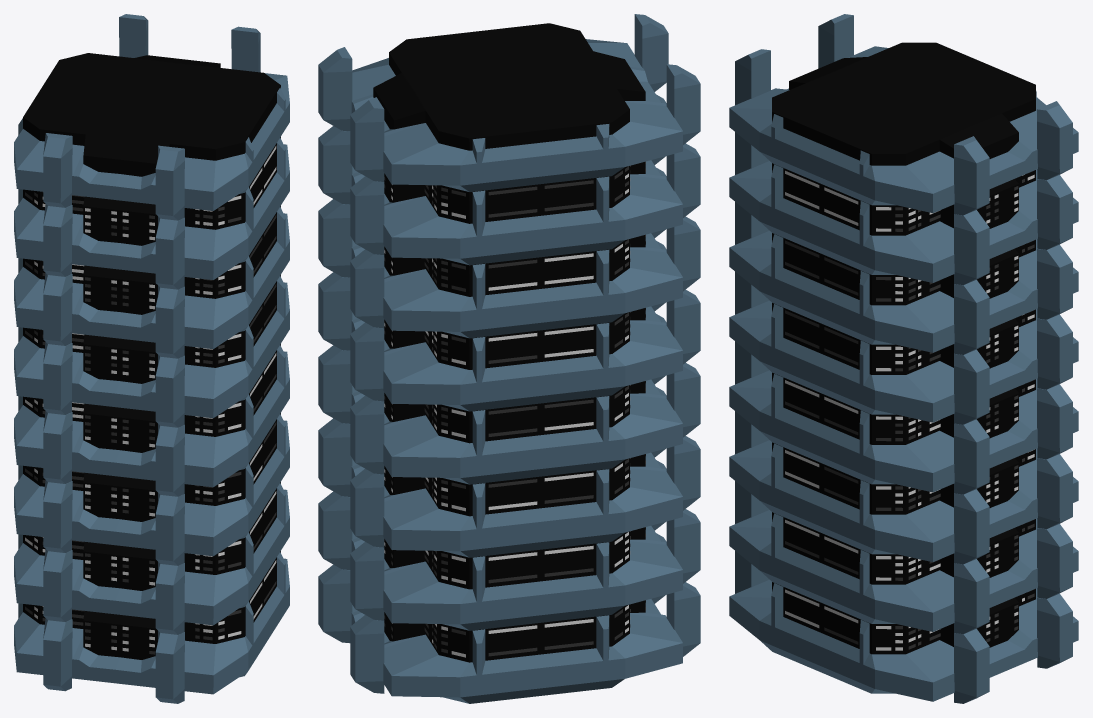
Rendered from building_022.glb.
The picture shows the model from 3 angles, left to right: view 1: azimuth 30°, elevation 25°; view 2: azimuth 150°, elevation 25°; view 3: azimuth 270°, elevation 25°; orthographic projection. The views are drawn at different scales.
Parts seen in each view (by area): view 1: building.022; view 2: building.022; view 3: building.022.
Part boxes in pixels (x1=…): building.022: x1=14, y1=14, x2=289, y2=703; building.022: x1=318, y1=14, x2=700, y2=703; building.022: x1=729, y1=14, x2=1078, y2=703.
Size of the model in its own units: 5.02 by 8.85 by 5.02.
